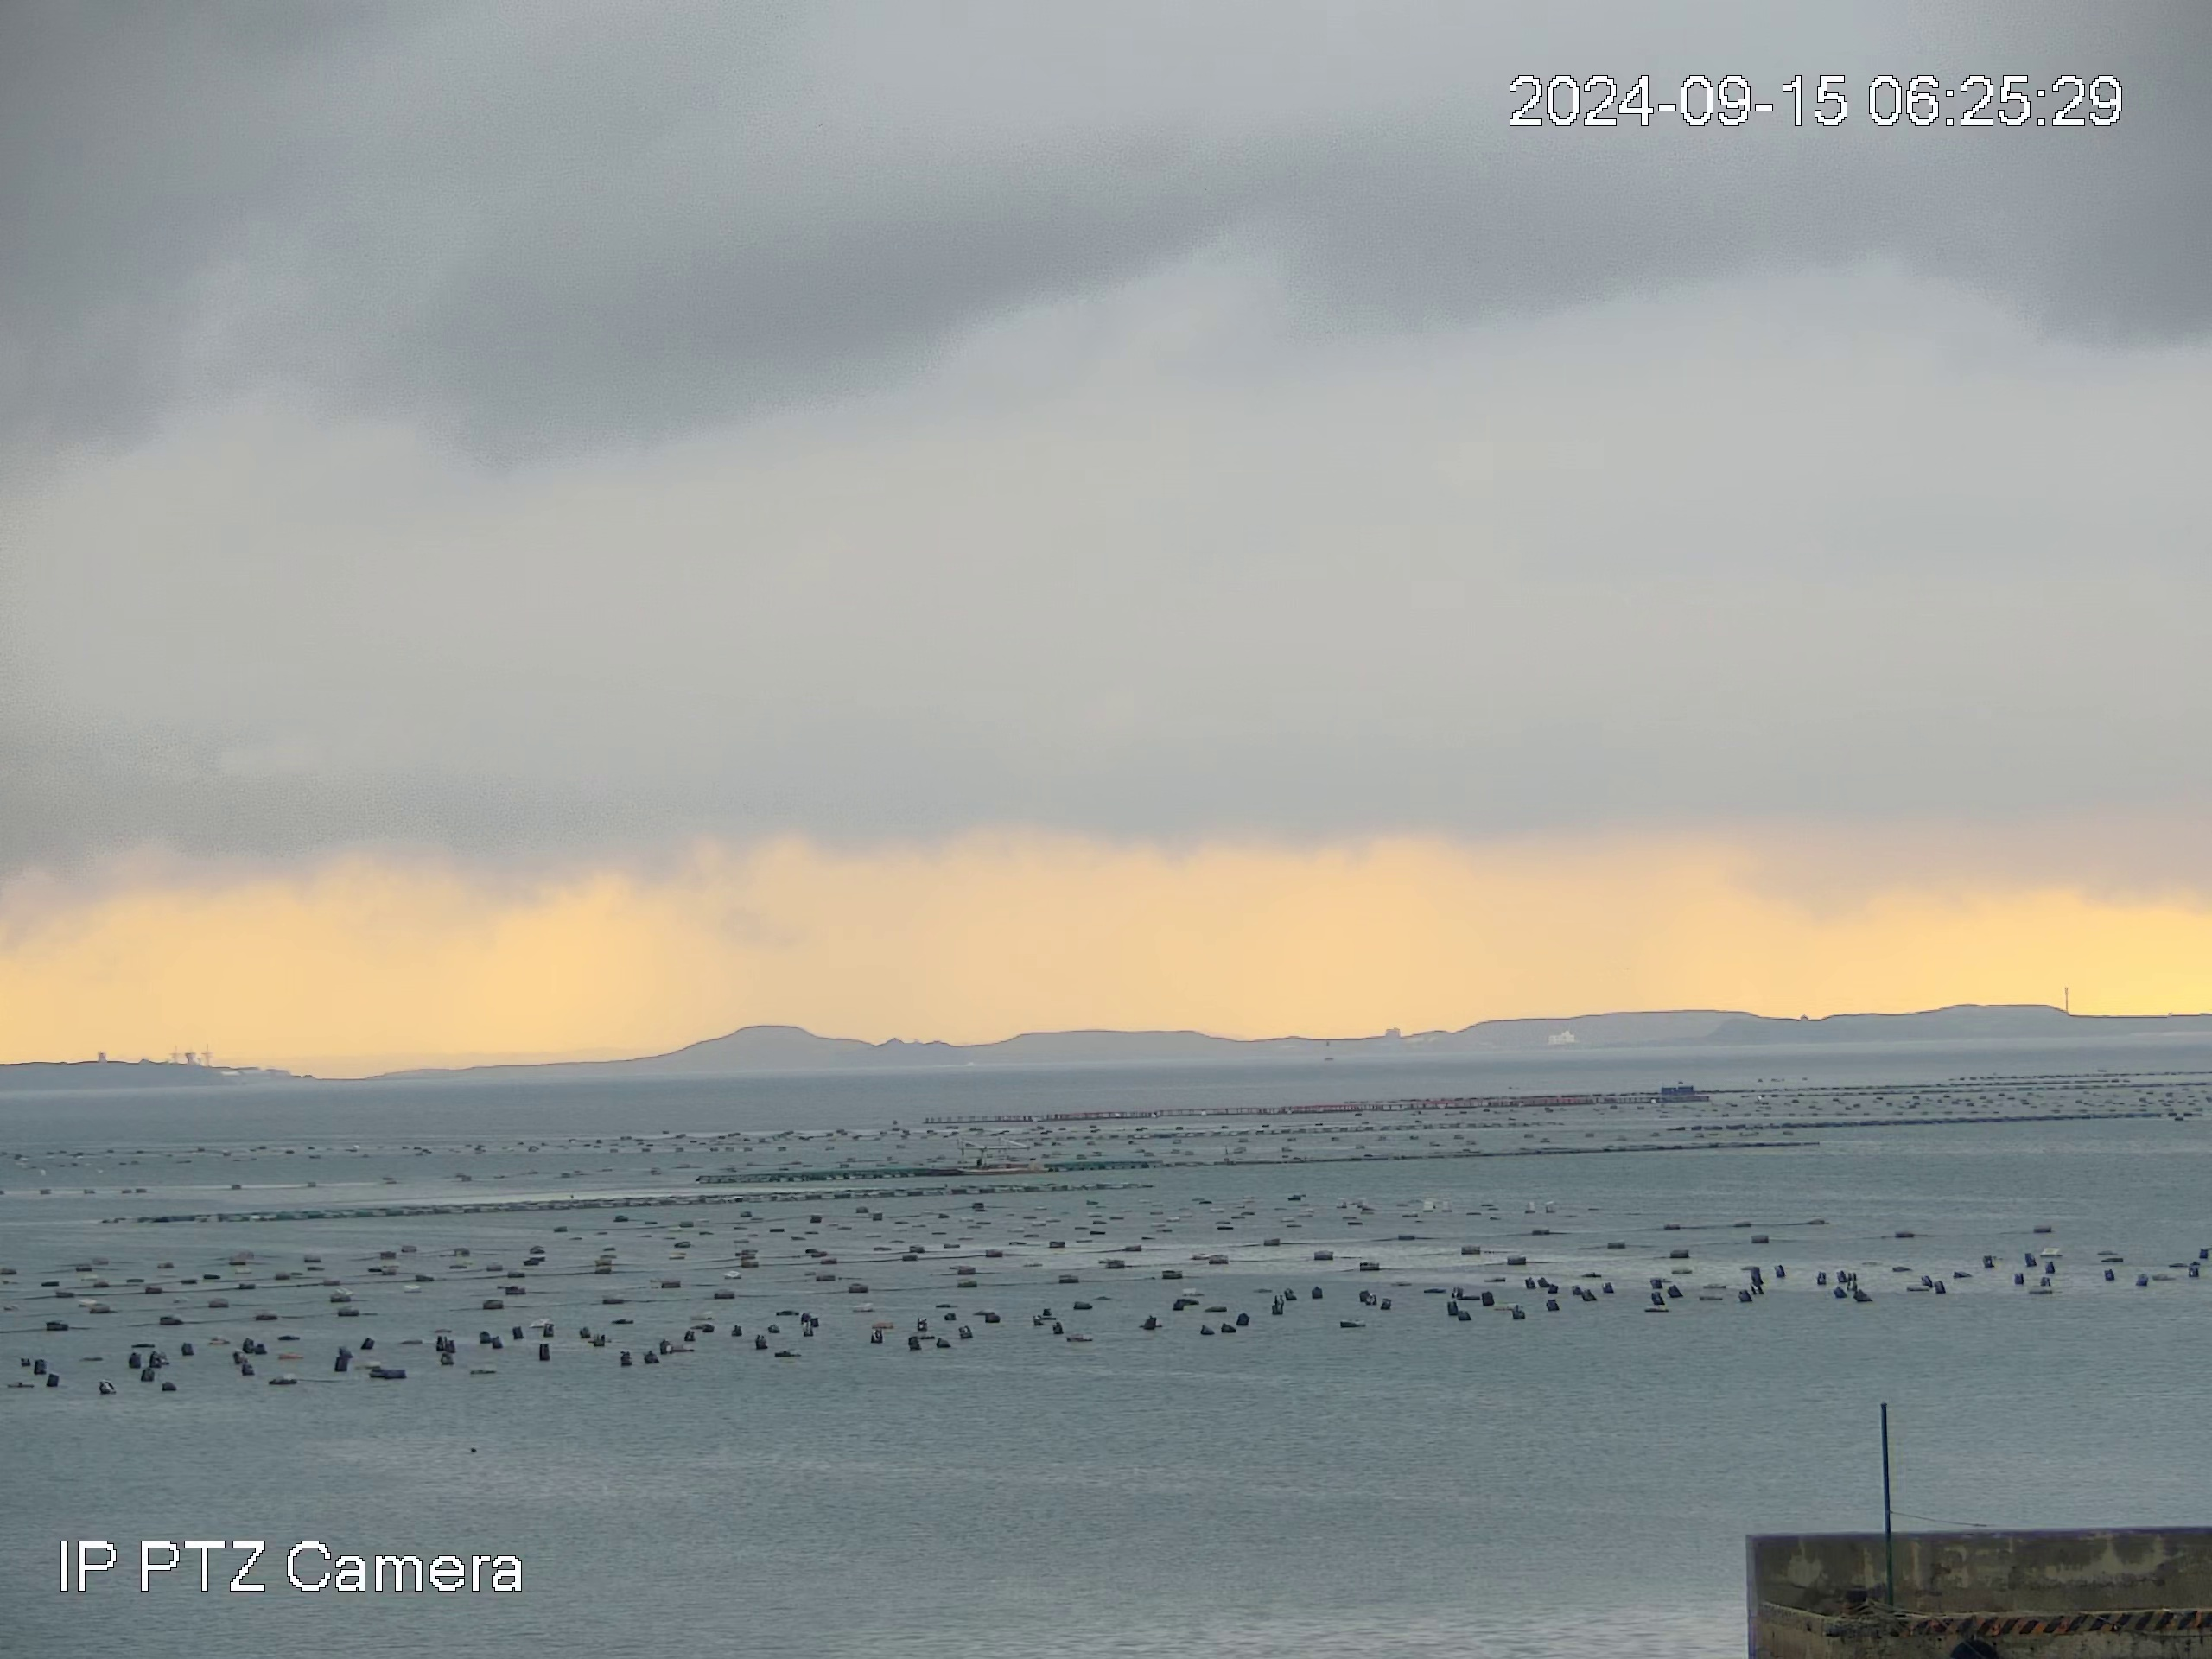boat: (954, 1134, 1051, 1177)
